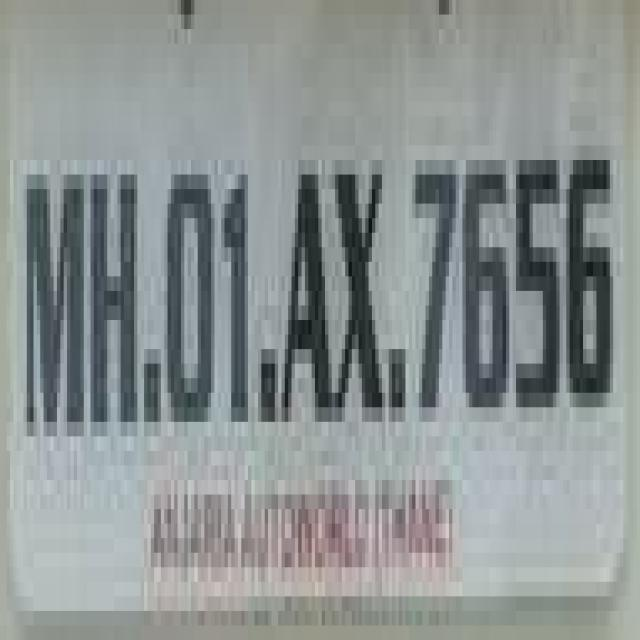license_plate: (20, 0, 640, 553)
